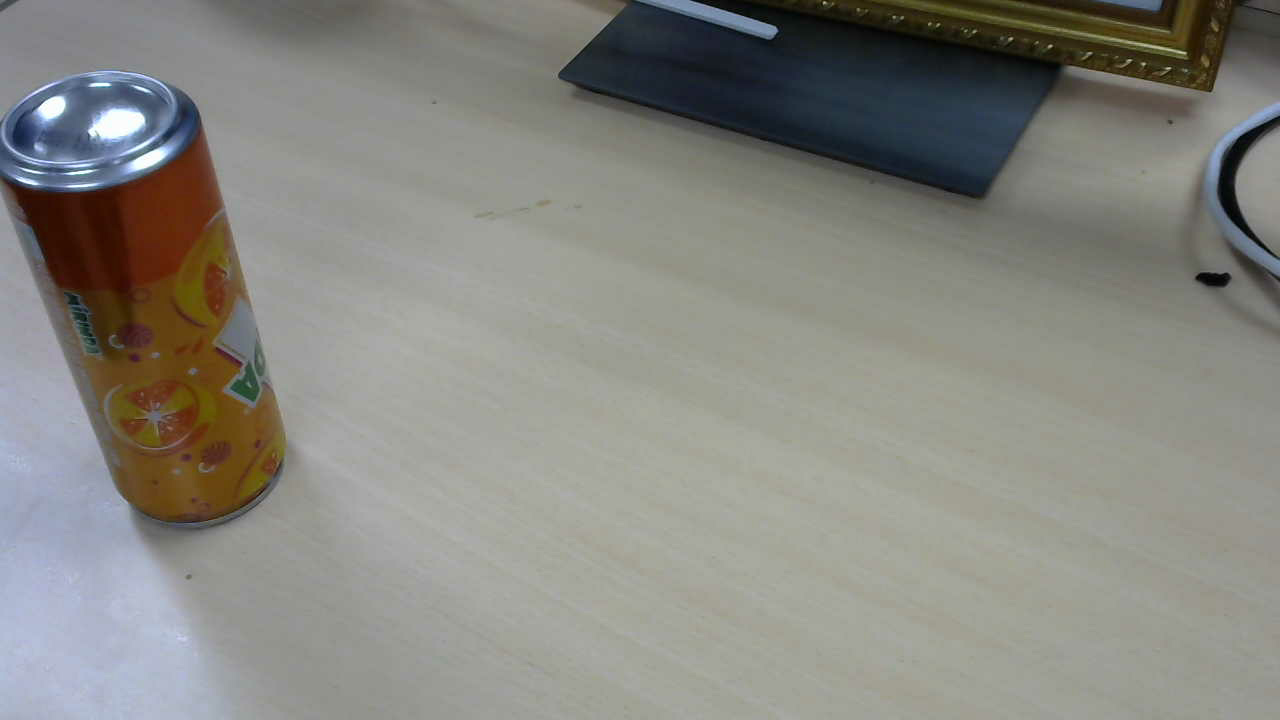Mirinda: (8, 71, 293, 534)
